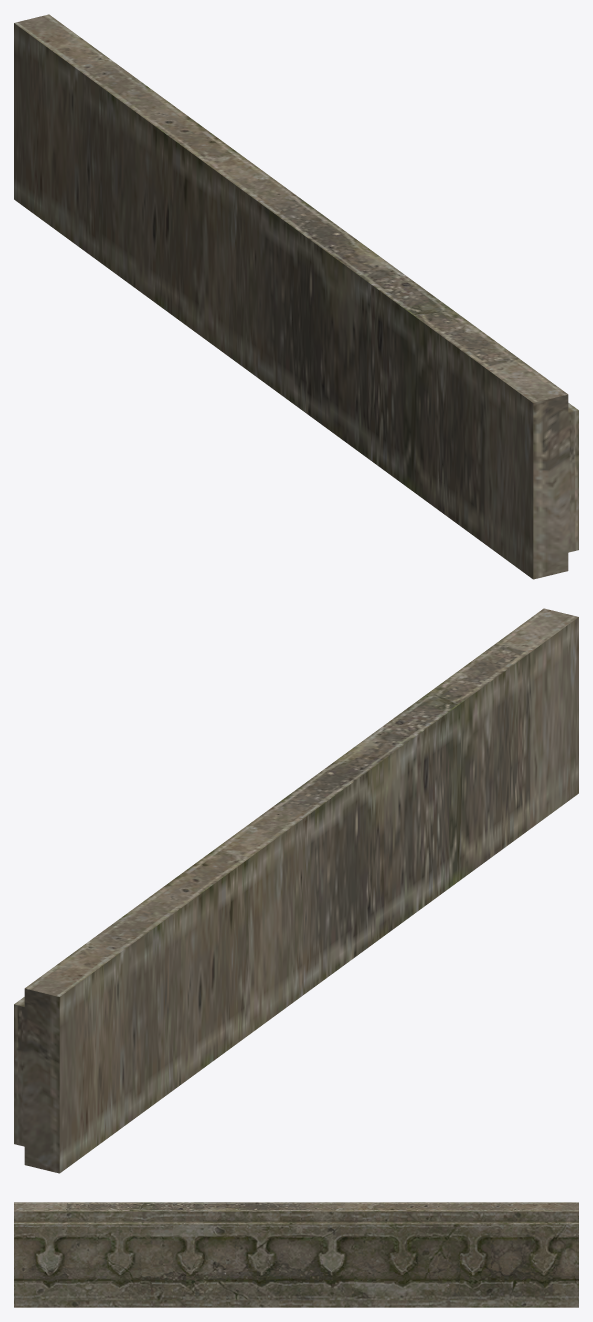
File: bg_lut_lutomb_deco06_sm_old.FBX
3 views of the same model, one above another, from view 1: azimuth 30°, elevation 25°; view 2: azimuth 150°, elevation 25°; view 3: azimuth 270°, elevation 25° (orthographic). The views are drawn at different scales.
Visible parts, largest first — view 1: bg_lut_lutomb_deco06_sm_old; view 2: bg_lut_lutomb_deco06_sm_old; view 3: bg_lut_lutomb_deco06_sm_old.
Part boxes in pixels (x1=…): bg_lut_lutomb_deco06_sm_old: x1=14, y1=14, x2=578, y2=579; bg_lut_lutomb_deco06_sm_old: x1=14, y1=608, x2=578, y2=1173; bg_lut_lutomb_deco06_sm_old: x1=14, y1=1202, x2=578, y2=1307.
Bounding box in the file's own units: 13 × 48 × 256.
